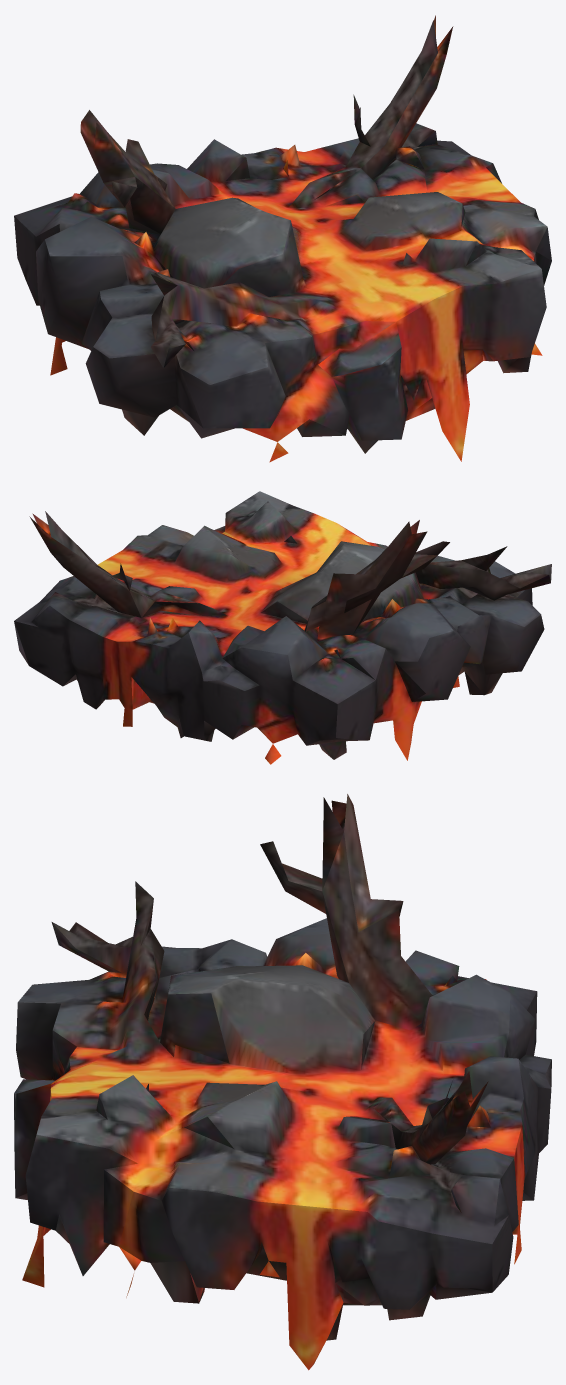
File: d_braises_cime.glb
3 views of the same model, one above another, from view 1: azimuth 30°, elevation 25°; view 2: azimuth 150°, elevation 25°; view 3: azimuth 270°, elevation 25° (orthographic). The views are drawn at different scales.
Parts seen in each view (by area): view 1: geometry_0; view 2: geometry_0; view 3: geometry_0.
Part boxes in pixels (bbox=[...]): geometry_0: bbox=[14, 15, 551, 462]; geometry_0: bbox=[14, 491, 551, 764]; geometry_0: bbox=[14, 794, 551, 1370].
Size of the model in its own units: 0.9935 by 0.5904 by 0.8038.
1 material, 1 textured.
